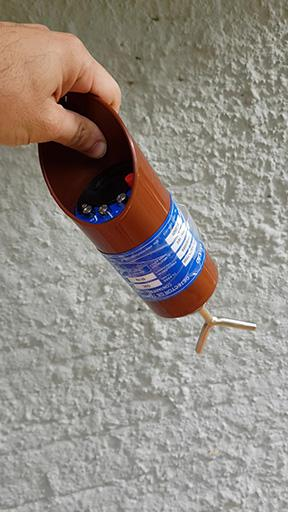Detector_Tensao_Contato: (37, 94, 255, 356)
